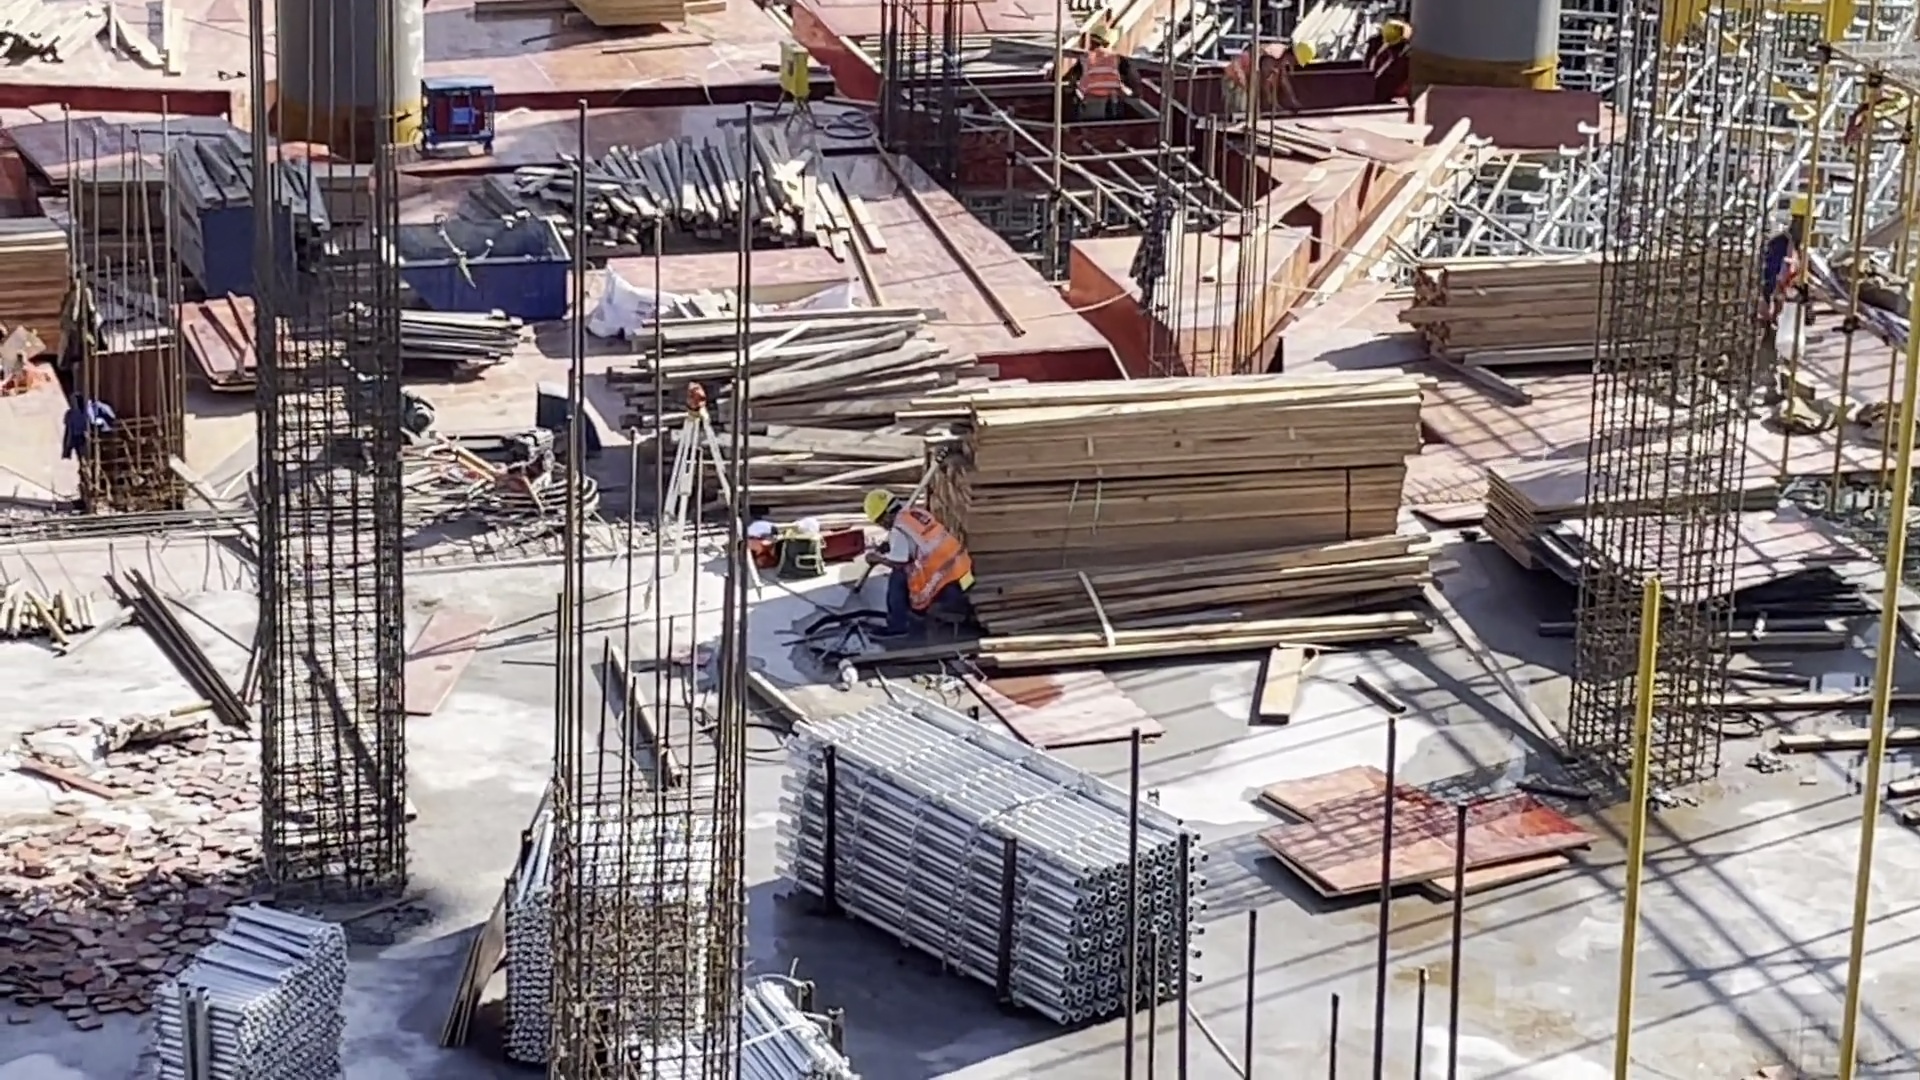board: (1481, 451, 1859, 612)
ebox: (774, 35, 818, 101)
helmet: (866, 491, 894, 528), (1089, 25, 1113, 51), (1377, 25, 1407, 43), (1291, 39, 1313, 62), (1794, 194, 1813, 214)
hopper: (369, 217, 569, 324)
person: (859, 486, 974, 640), (1220, 35, 1314, 117), (1074, 25, 1145, 126), (1770, 182, 1815, 333), (1359, 19, 1411, 94)
scaffold: (777, 683, 1210, 1024), (507, 782, 856, 1080), (151, 904, 349, 1080)
vest: (894, 502, 967, 608), (1228, 36, 1280, 98), (1078, 46, 1124, 94), (1776, 231, 1807, 293)
wood: (900, 366, 1431, 672), (614, 298, 958, 518), (522, 127, 885, 270), (1398, 242, 1763, 365), (1, 222, 69, 361)
